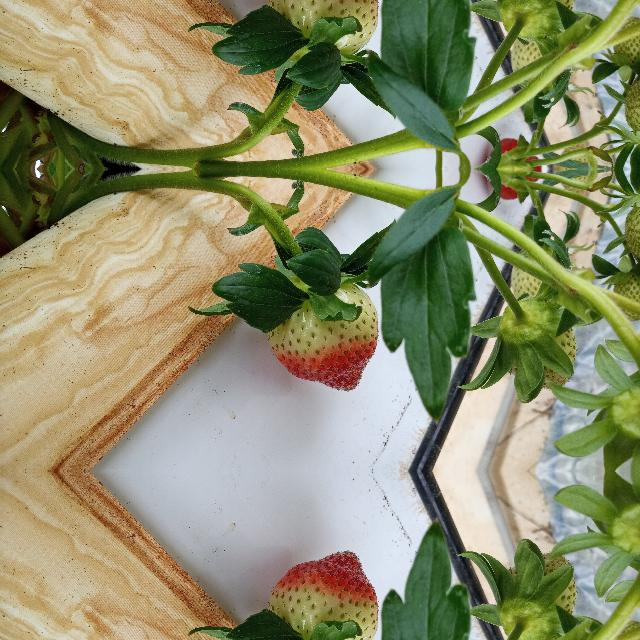Health_25: (492, 296, 578, 389), (492, 551, 578, 640), (492, 0, 578, 39)
Health_75: (267, 281, 378, 391), (267, 550, 378, 640), (267, 0, 378, 55)
